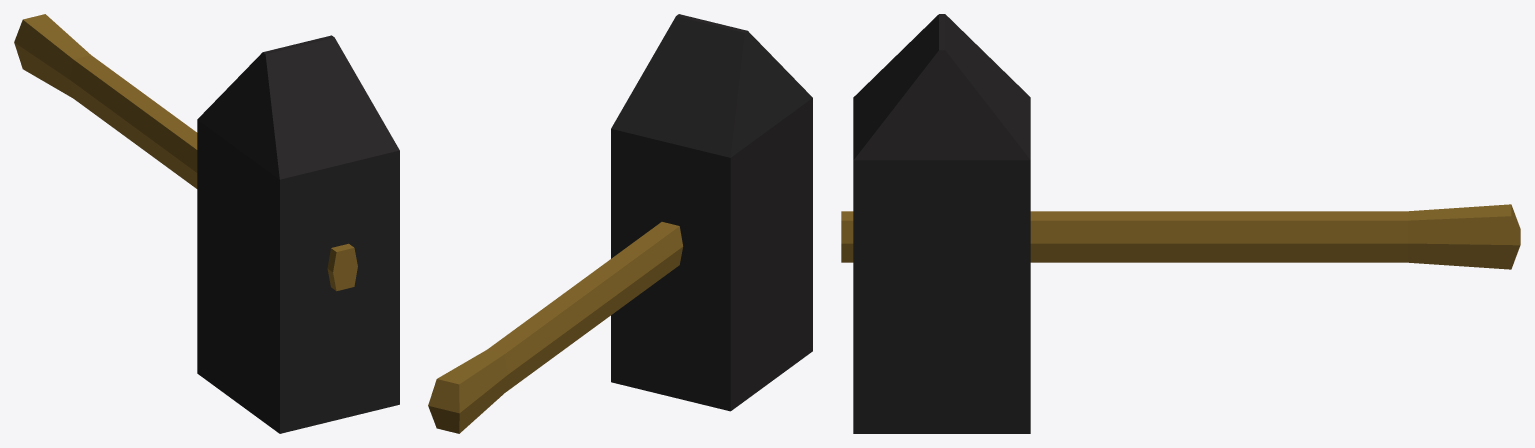
The model's file is hammer.fbx.
3 views of the same model, side by side, from view 1: azimuth 30°, elevation 25°; view 2: azimuth 150°, elevation 25°; view 3: azimuth 270°, elevation 25° (orthographic). The views are drawn at different scales.
Visible parts, largest first — view 1: Молоток; view 2: Молоток; view 3: Молоток.
Boxes of the visible parts, x1,y1,x2,y2 form: Молоток: (14, 14, 399, 433); Молоток: (428, 14, 812, 433); Молоток: (841, 14, 1520, 433).
Bounding box in the file's own units: 0.0782 × 0.2143 × 0.3561.
